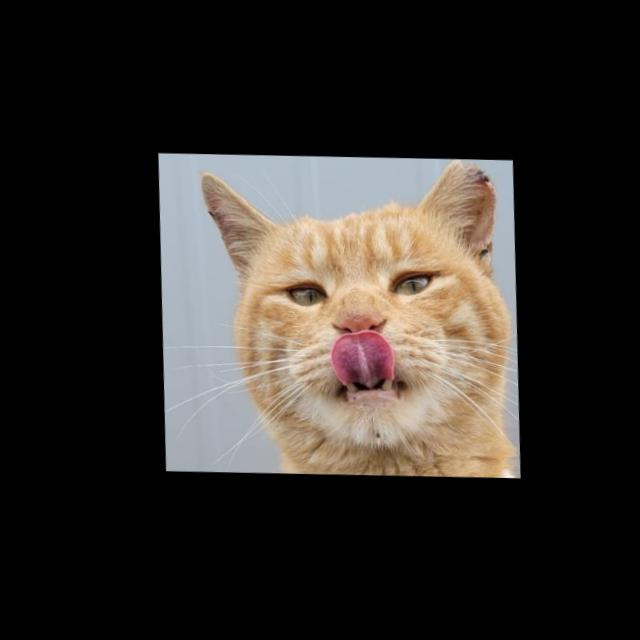animals: (187, 151, 516, 468)
